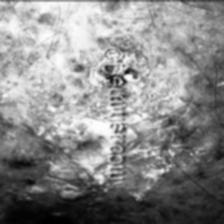Potentially Malignant Skin Tumors: (0, 0, 104, 211), (131, 43, 194, 207)
